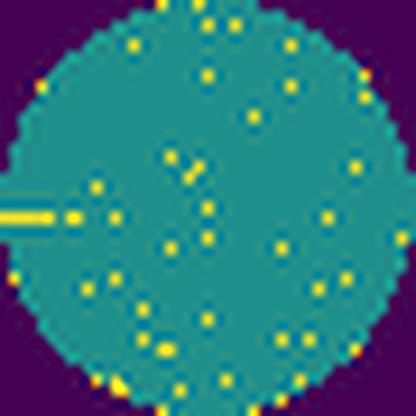Scratch: (0, 209, 61, 230)
